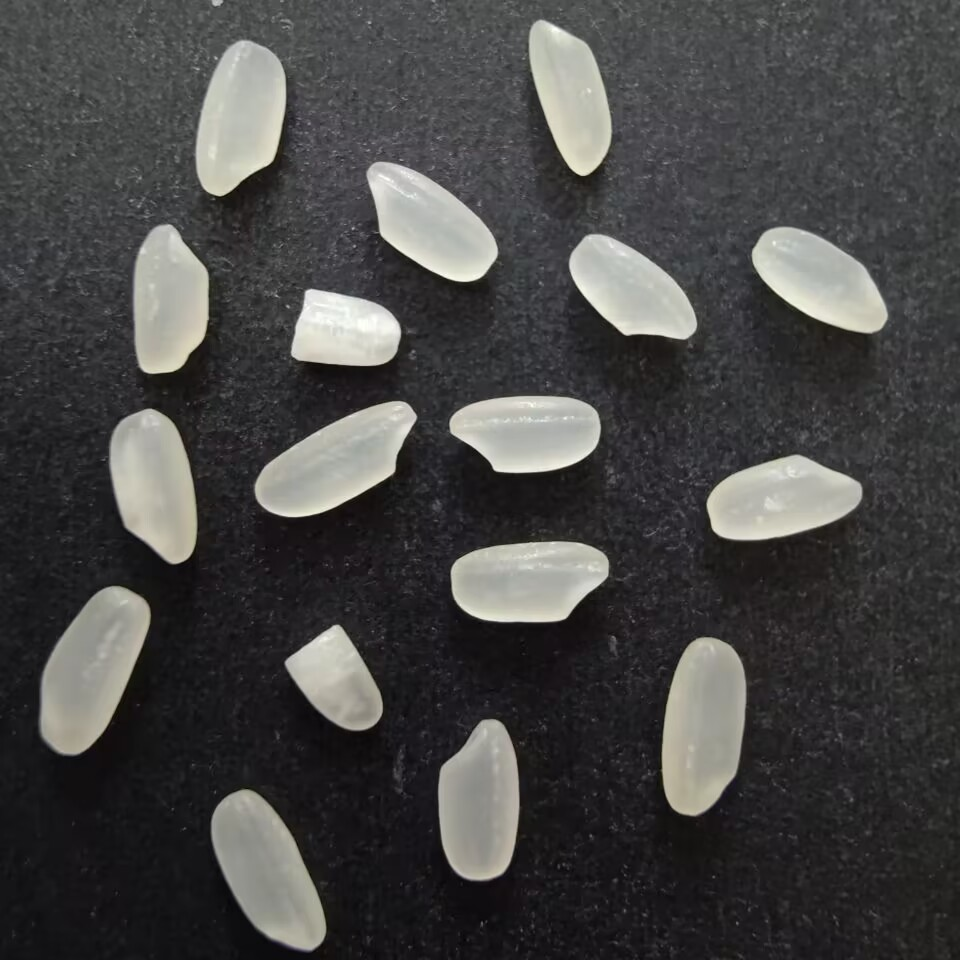broken: (279, 619, 387, 734), (288, 285, 405, 375)
rice: (250, 394, 418, 521), (207, 785, 330, 953), (36, 581, 151, 760), (363, 160, 502, 284), (192, 34, 290, 203), (661, 633, 750, 818), (703, 447, 865, 543), (444, 539, 613, 631), (752, 226, 890, 337), (431, 714, 519, 886), (105, 406, 199, 566), (565, 231, 699, 341), (526, 17, 616, 179), (443, 393, 605, 478), (131, 220, 213, 382)
